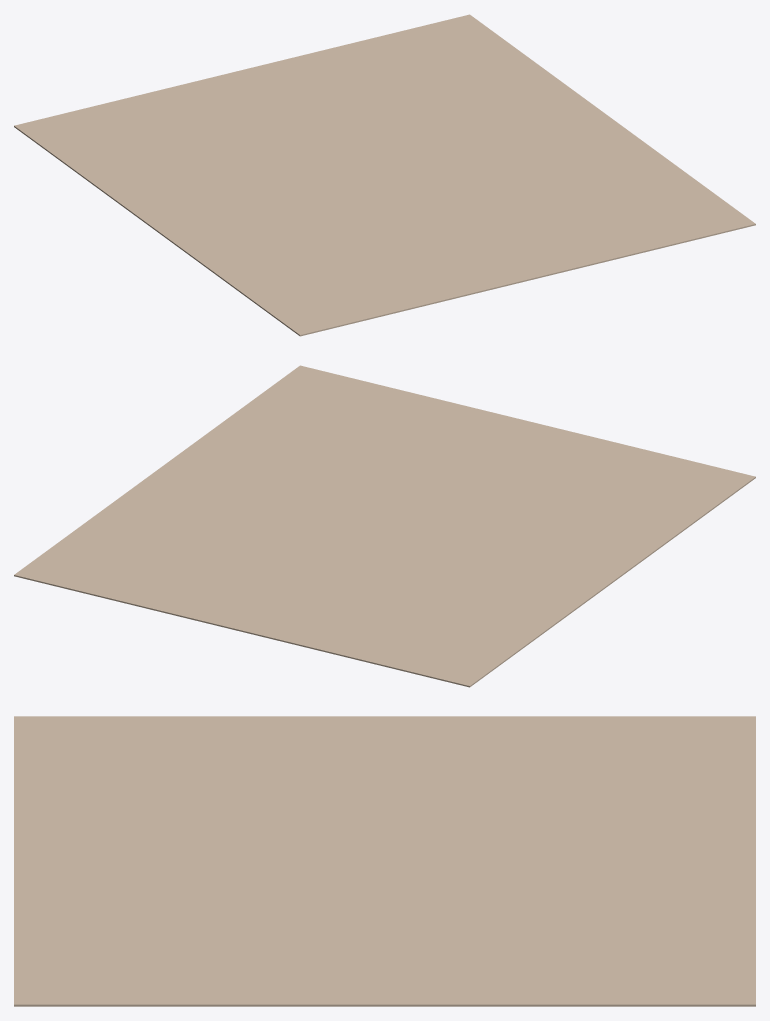
3 views of the same model, one above another, from view 1: azimuth 30°, elevation 25°; view 2: azimuth 150°, elevation 25°; view 3: azimuth 270°, elevation 25° (orthographic). The views are drawn at different scales.
Parts seen in each view (by area): view 1: GF-L10-FLOOR-3; view 2: GF-L10-FLOOR-3; view 3: GF-L10-FLOOR-3.
Boxes of the visible parts, <box> form: GF-L10-FLOOR-3: <box>14,14,755,336</box>; GF-L10-FLOOR-3: <box>14,365,755,687</box>; GF-L10-FLOOR-3: <box>14,716,755,1006</box>.
Size of the model in its own units: 6.99 by 0.02 by 7.6.
